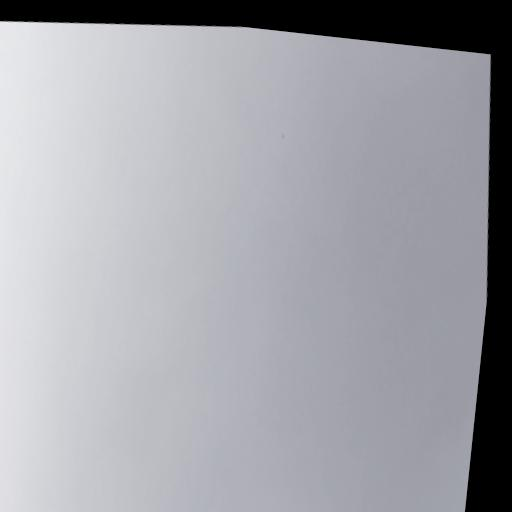drones: (277, 127, 291, 146)
